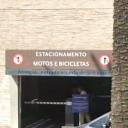NoSeguir: (12, 53, 24, 65)
